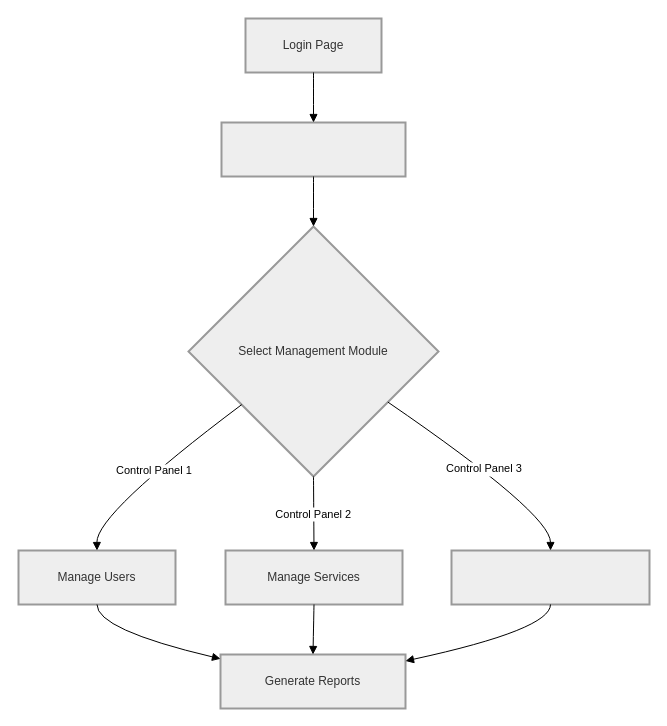
Image size: 667x726. Some labels were removed from this diagram. Each missing label, with the centre of its shape:
Admin Dashboard: [313,149]
Manage Complaints: [550,577]
